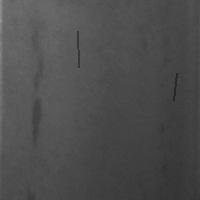inclusion: (26, 27, 48, 96), (27, 93, 46, 151), (171, 71, 178, 102), (75, 29, 80, 69)
